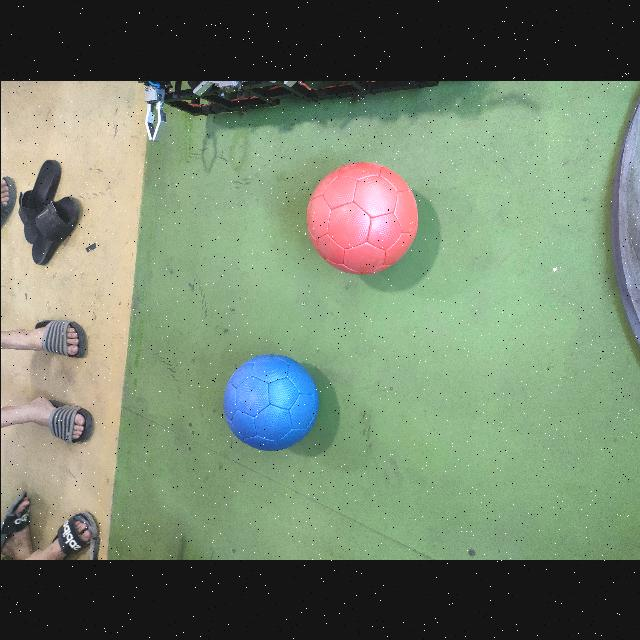B: (222, 355, 318, 450)
R: (306, 161, 417, 273)
